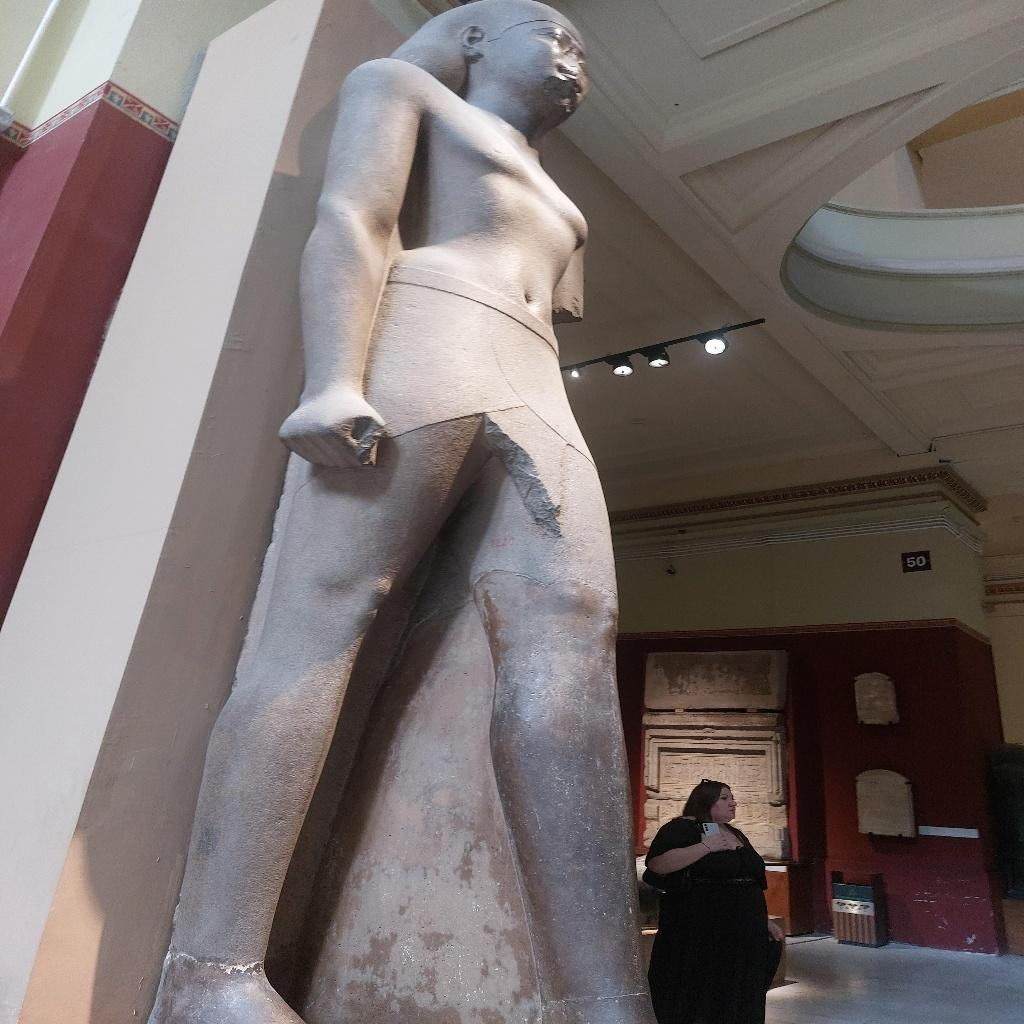Colossal Statue of Hormoheb: (145, 2, 660, 1020)
